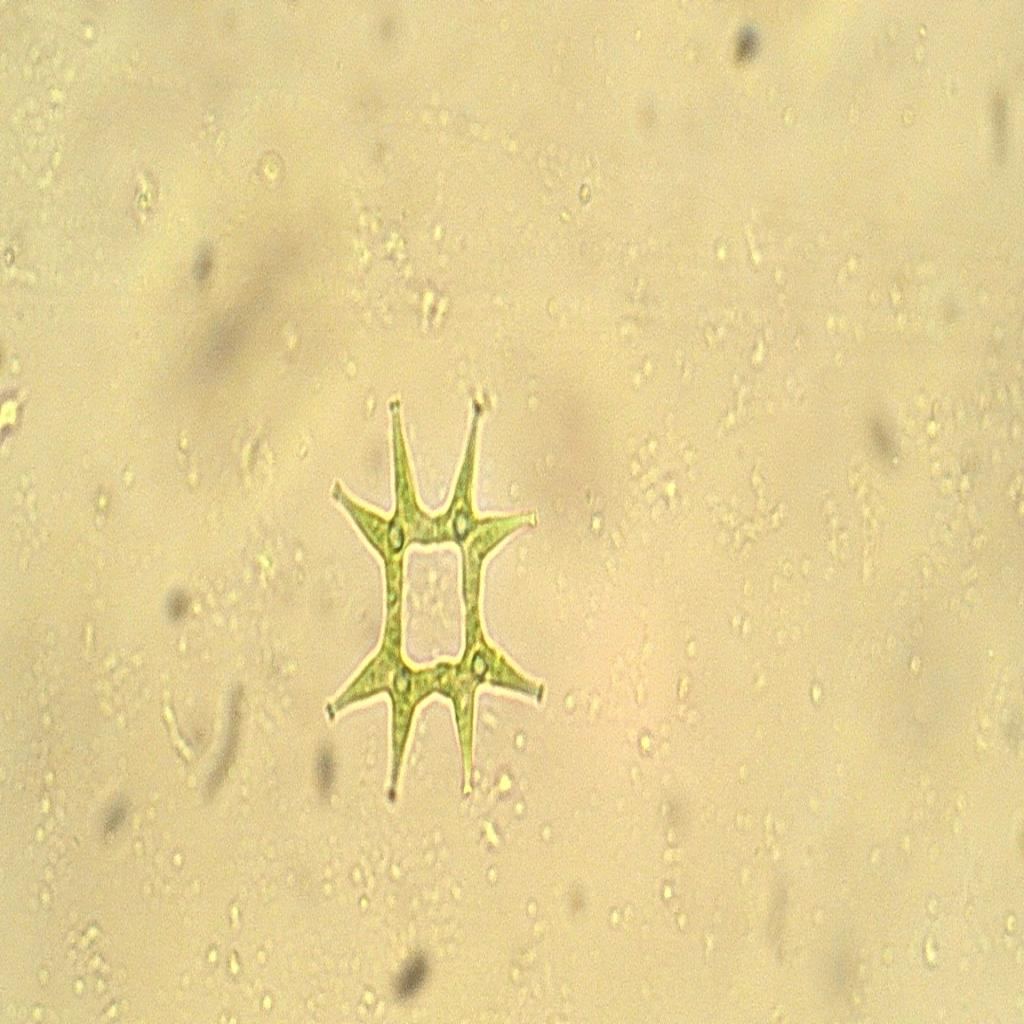Pediastrum_CO: (303, 371, 555, 821)
